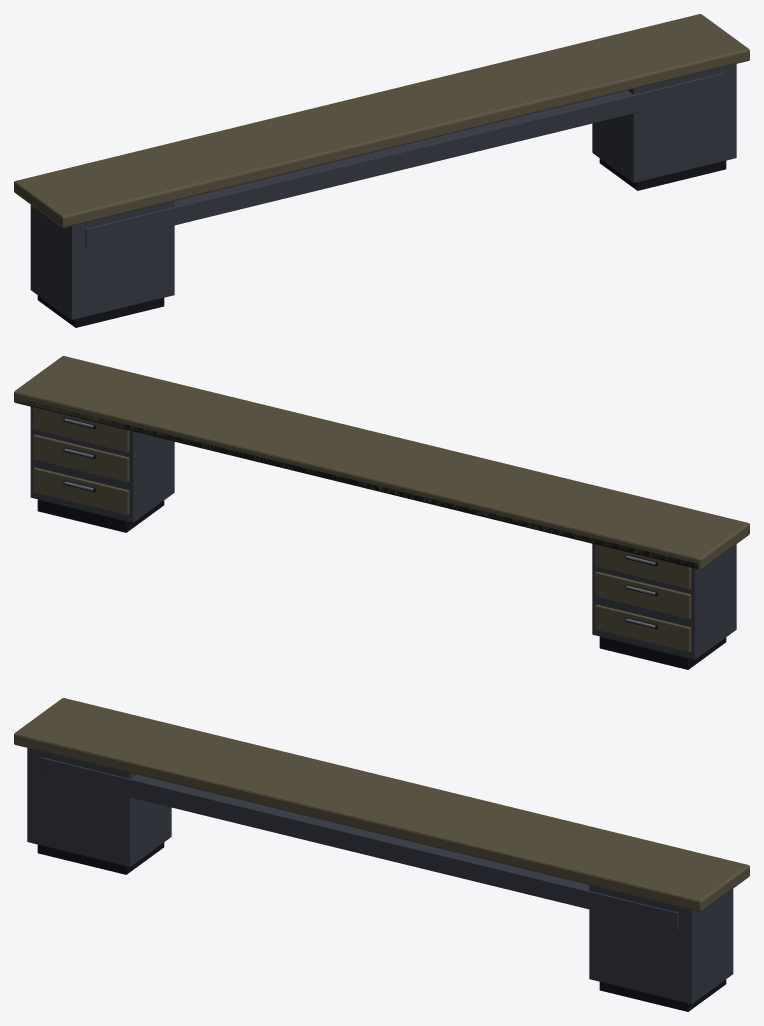
File: control_desk.glb
The picture shows the model from 3 angles, top to bottom: view 1: azimuth 30°, elevation 25°; view 2: azimuth 150°, elevation 25°; view 3: azimuth 330°, elevation 25°; orthographic projection.
Parts seen in each view (by area): view 1: control_desk; view 2: control_desk; view 3: control_desk.
Part boxes in pixels (x1,y1,x2,y2): control_desk: (14, 14, 749, 327); control_desk: (14, 356, 749, 669); control_desk: (14, 698, 749, 1011).
Size of the model in its own units: 4.8 by 0.8 by 0.6.
